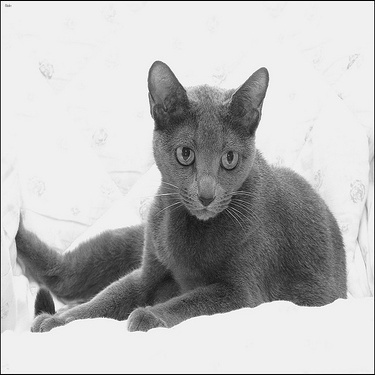cat: (14, 62, 350, 331)
